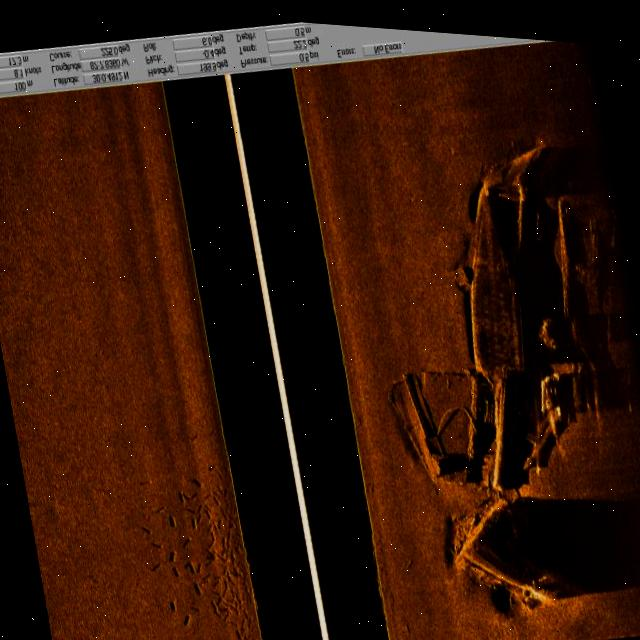shipwreck: (389, 119, 640, 618)
